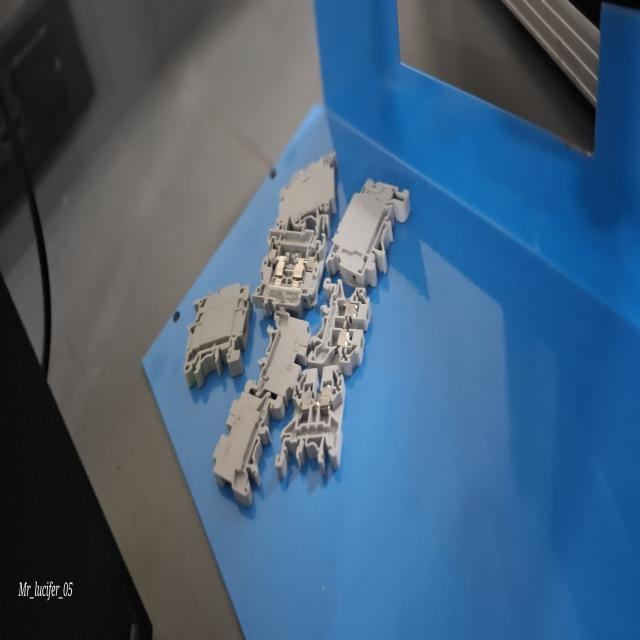Inverted: (208, 372, 274, 508), (255, 298, 308, 407)
Pass: (272, 351, 350, 485), (314, 268, 374, 382)
